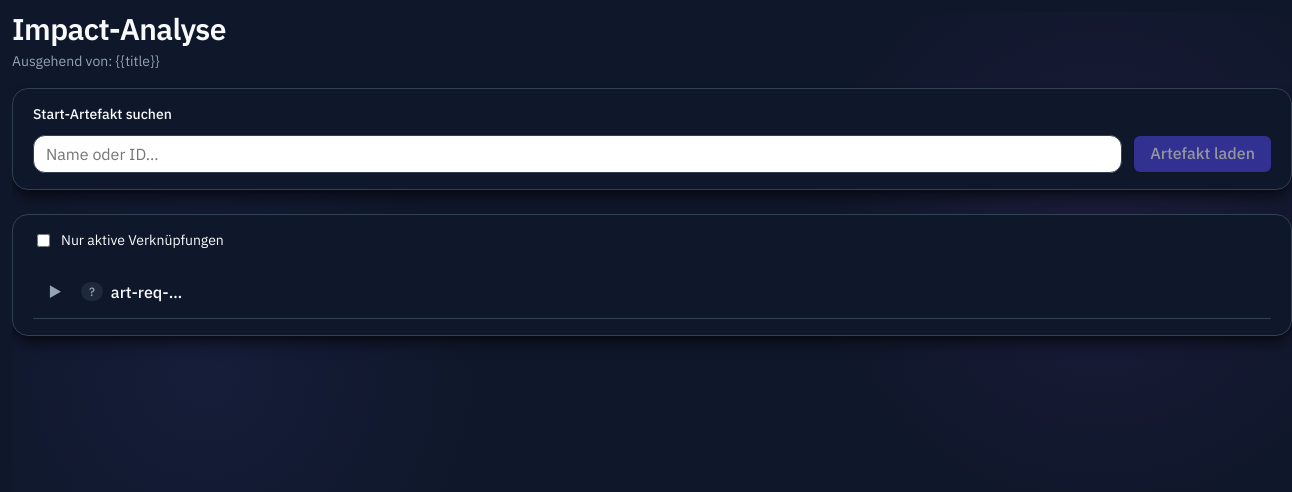
Test: ImpactView — cycle detection (#415) › [#415] root node shows a title, never the raw UUID
Expected: the element with test id "impact-tree-panel" does not show "art-req-l1", [12,214,1291,336]
Click the button with test id "impact-node-toggle": (55, 292) [37,274,73,310]
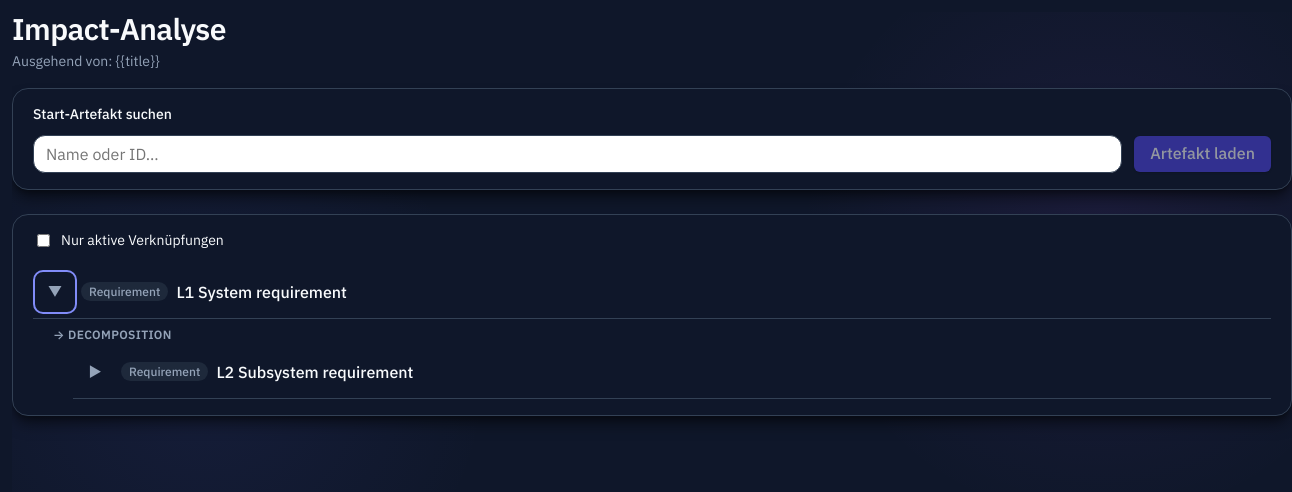
Expected: the element with test id "impact-tree-node" shows "L1 System requirement", [176,282,347,302]
Expected: the text with test id "impact-node-type" next to "L1 System requirement" reads "Requirement", [89,284,160,299]
